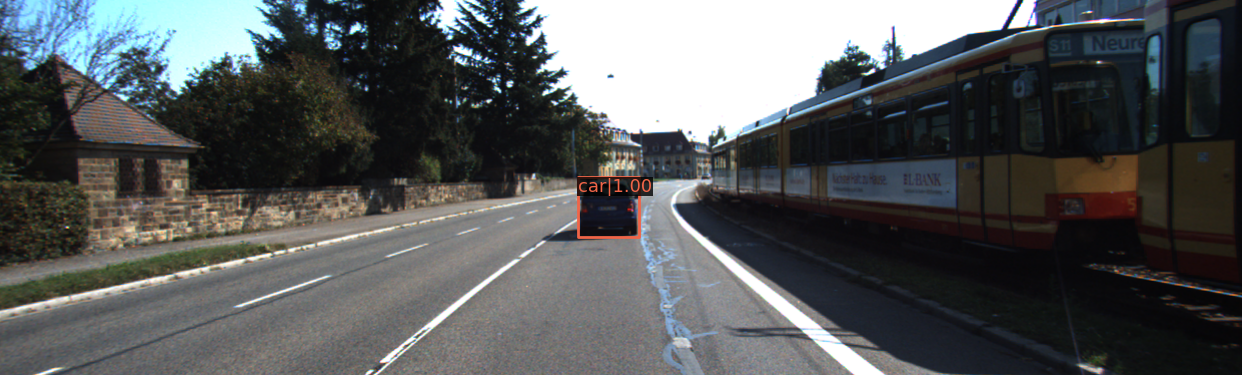car: (581, 179, 641, 238)
